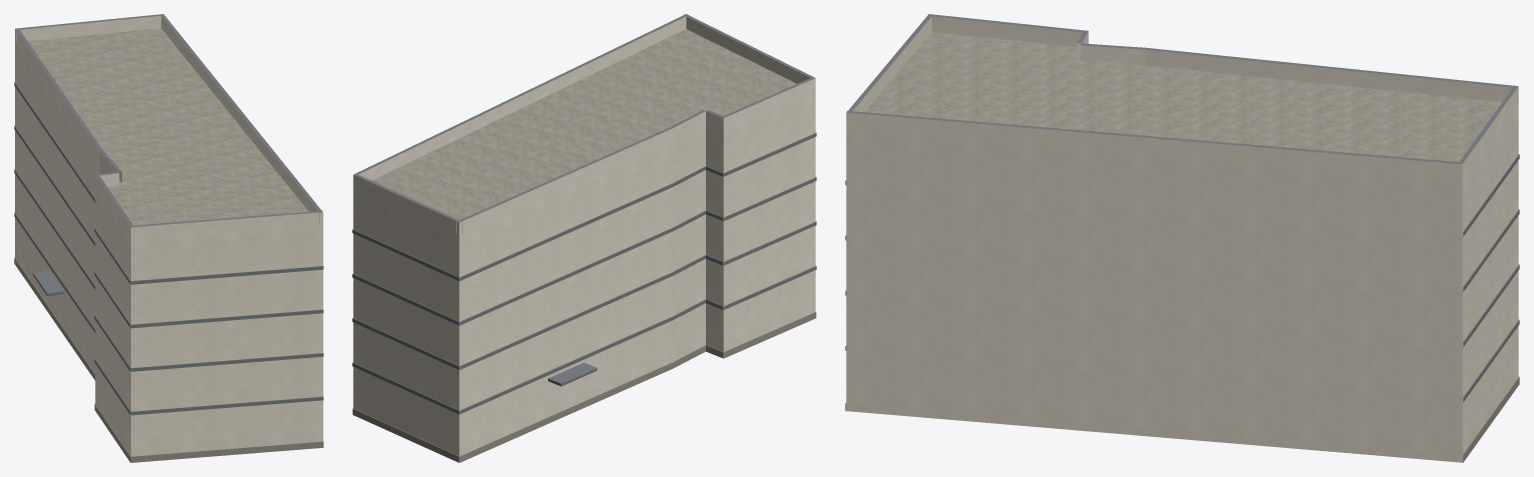
3 views of the same model, side by side, from view 1: azimuth 30°, elevation 25°; view 2: azimuth 150°, elevation 25°; view 3: azimuth 270°, elevation 25° (orthographic). The views are drawn at different scales.
Visible parts, largest first — view 1: B-w877660200_lejos, B-w877660200_muros, B-w877660200_molduras, B-w877660200_cubierta, B-w877660200_remates; view 2: B-w877660200_lejos, B-w877660200_muros, B-w877660200_molduras, B-w877660200_cubierta, B-w877660200_remates; view 3: B-w877660200_lejos, B-w877660200_muros, B-w877660200_cubierta, B-w877660200_molduras.
Boxes of the visible parts, x1,y1,x2,y2 form: B-w877660200_lejos: (15,28,323,456); B-w877660200_muros: (15,29,323,455); B-w877660200_molduras: (14,82,323,462); B-w877660200_cubierta: (15,14,322,227); B-w877660200_remates: (33,271,64,296); B-w877660200_lejos: (353,29,815,462); B-w877660200_muros: (353,78,815,455); B-w877660200_molduras: (352,132,816,462); B-w877660200_cubierta: (353,14,815,233); B-w877660200_remates: (548,362,597,386); B-w877660200_lejos: (846,32,1505,462); B-w877660200_muros: (846,31,1518,441); B-w877660200_cubierta: (846,14,1518,164); B-w877660200_molduras: (845,154,1519,462).
Bounding box in the file's own units: 18.79 × 17.3 × 35.44.
Materials: 5 (2 with a texture image).
